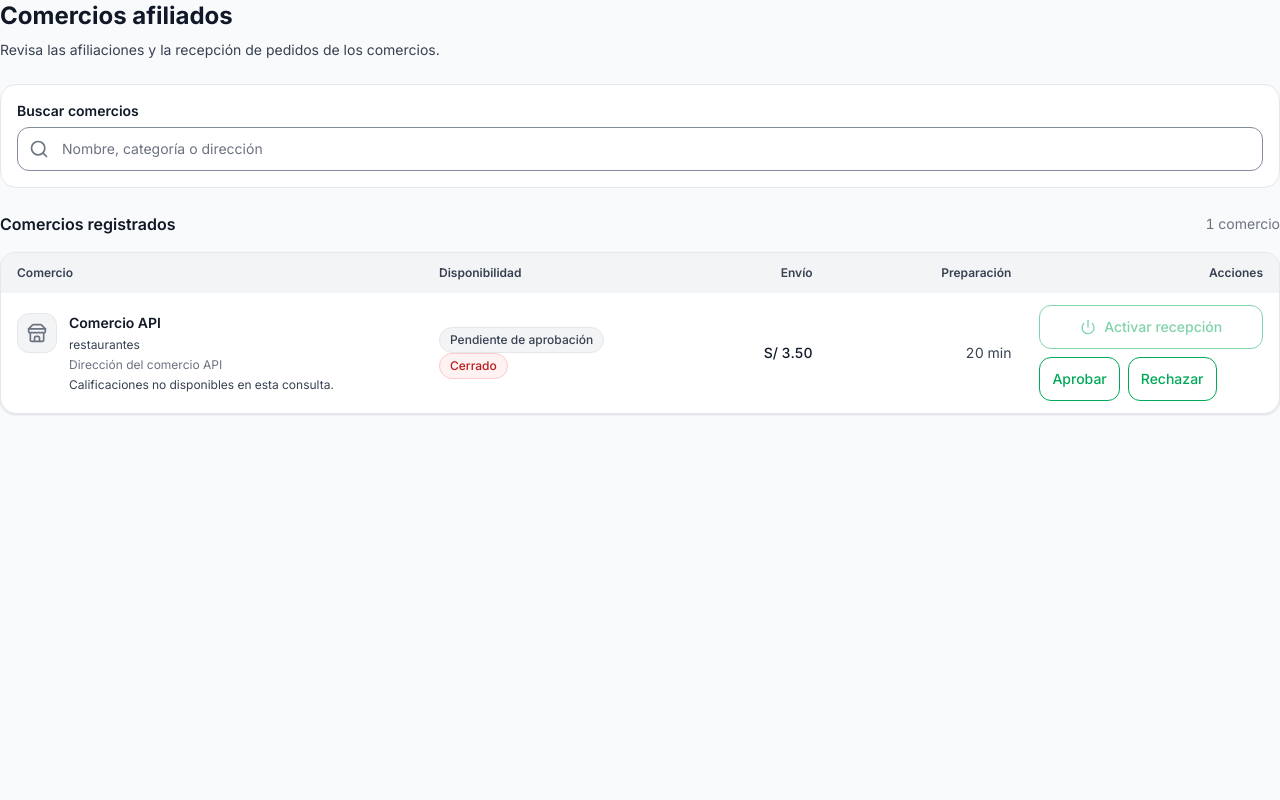
Test case: conserva tabla comercial y verifica aprobación con motivo
The image size is (1280, 800).
Click the button "Aprobar" at (1080, 379), box [1039,357,1120,401]
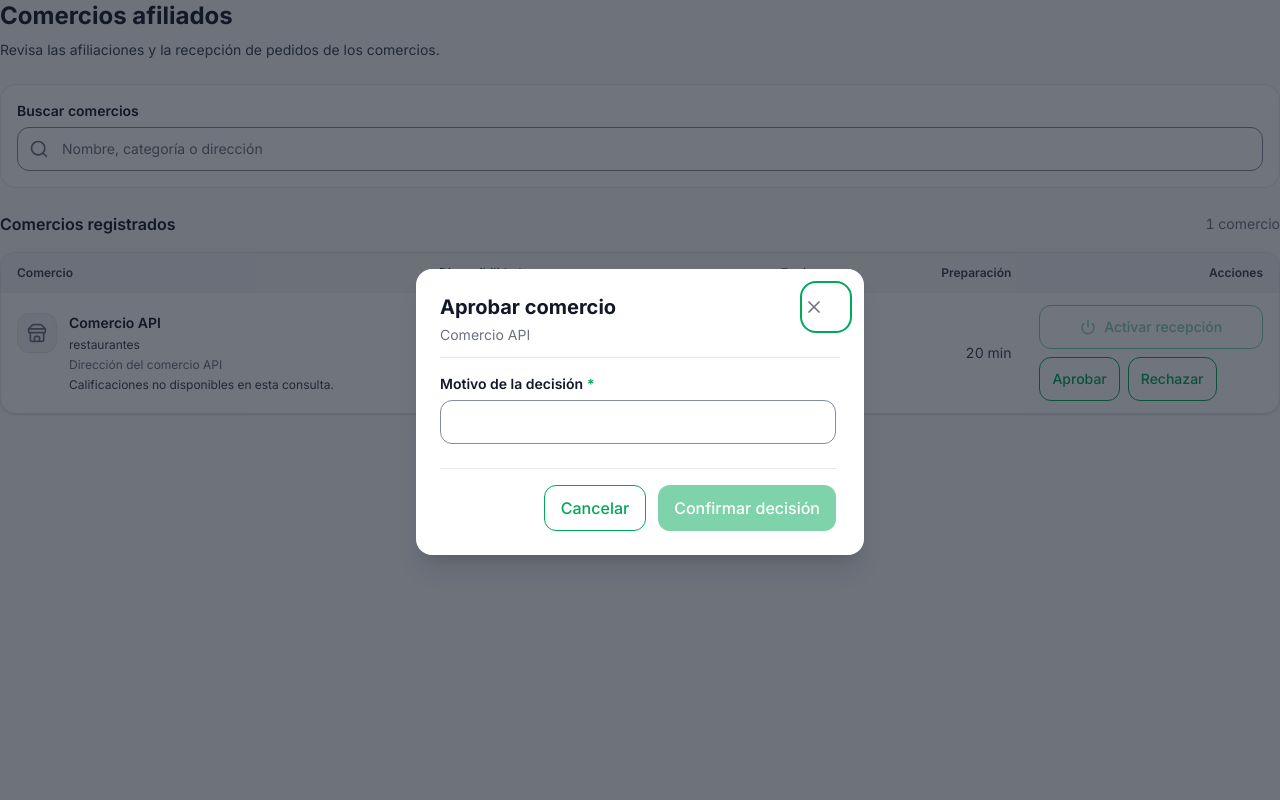
Type "Documentación revisada" into the field labelled "Motivo de la decisión*" at (638, 422), box [440,400,836,444]
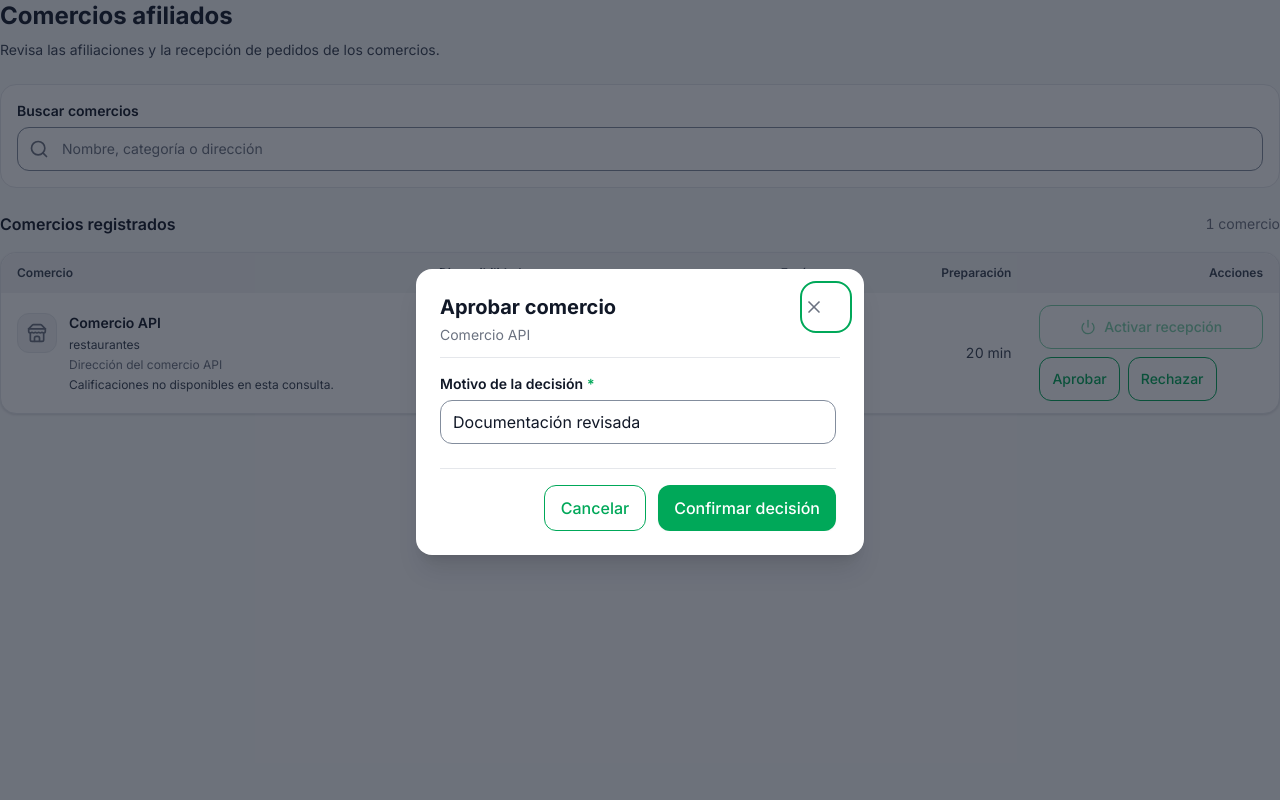
Click the button "Confirmar decisión" at (747, 508), box [658,485,836,531]
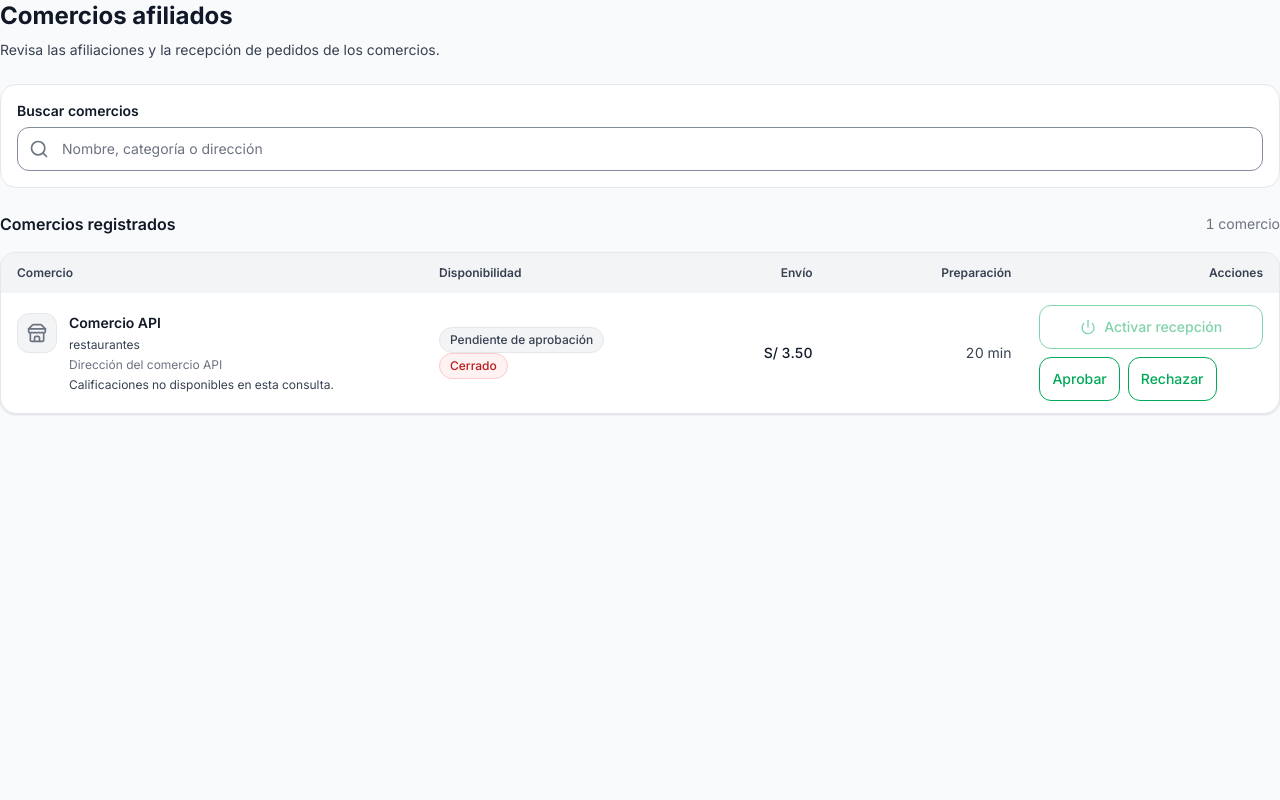
Expected: the dialog is gone
